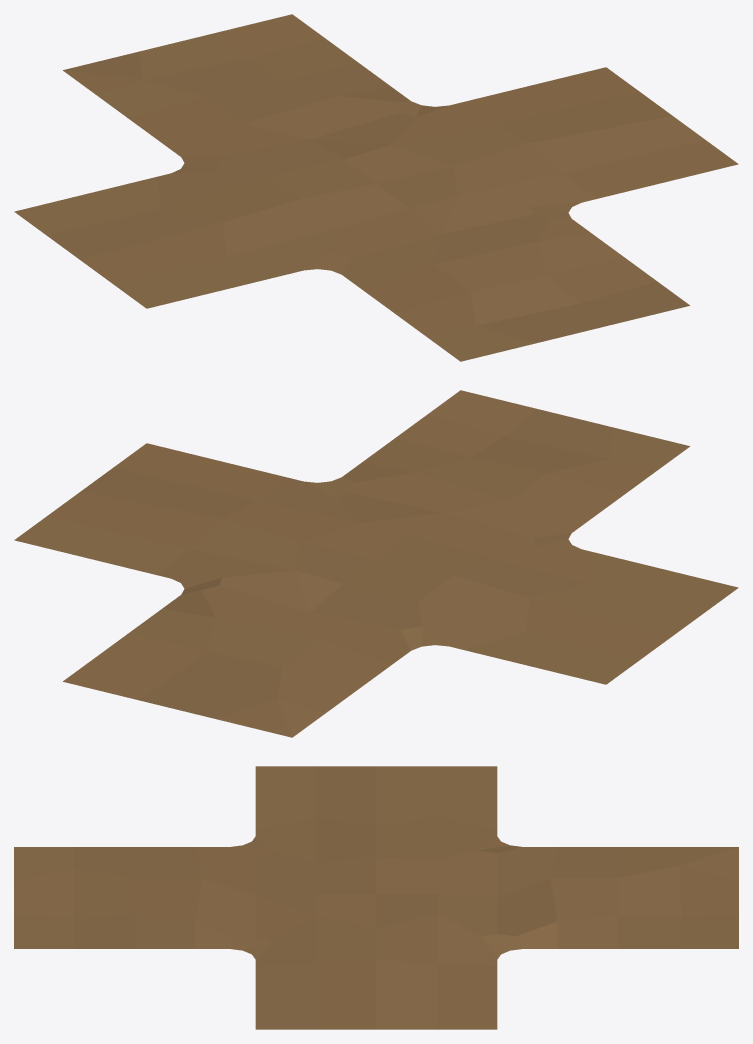
File: Ground_4.fbx
3 renders of one model, top to bottom at view 1: azimuth 30°, elevation 25°; view 2: azimuth 150°, elevation 25°; view 3: azimuth 270°, elevation 25°, orthographic. The views are drawn at different scales.
Visible parts, largest first — view 1: Ground_4; view 2: Ground_4; view 3: Ground_4.
Boxes of the visible parts, bbox=[...] form: Ground_4: bbox=[14, 14, 738, 361]; Ground_4: bbox=[14, 390, 738, 737]; Ground_4: bbox=[14, 766, 738, 1029].
Bounding box in the file's own units: 773 × 13.36 × 900.
